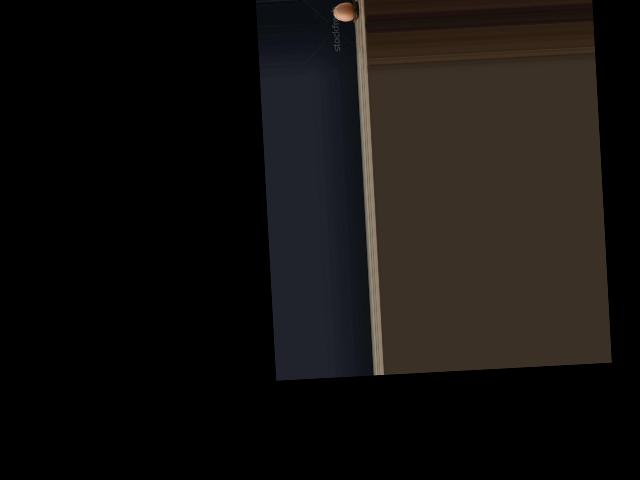egg: (333, 1, 354, 21)
